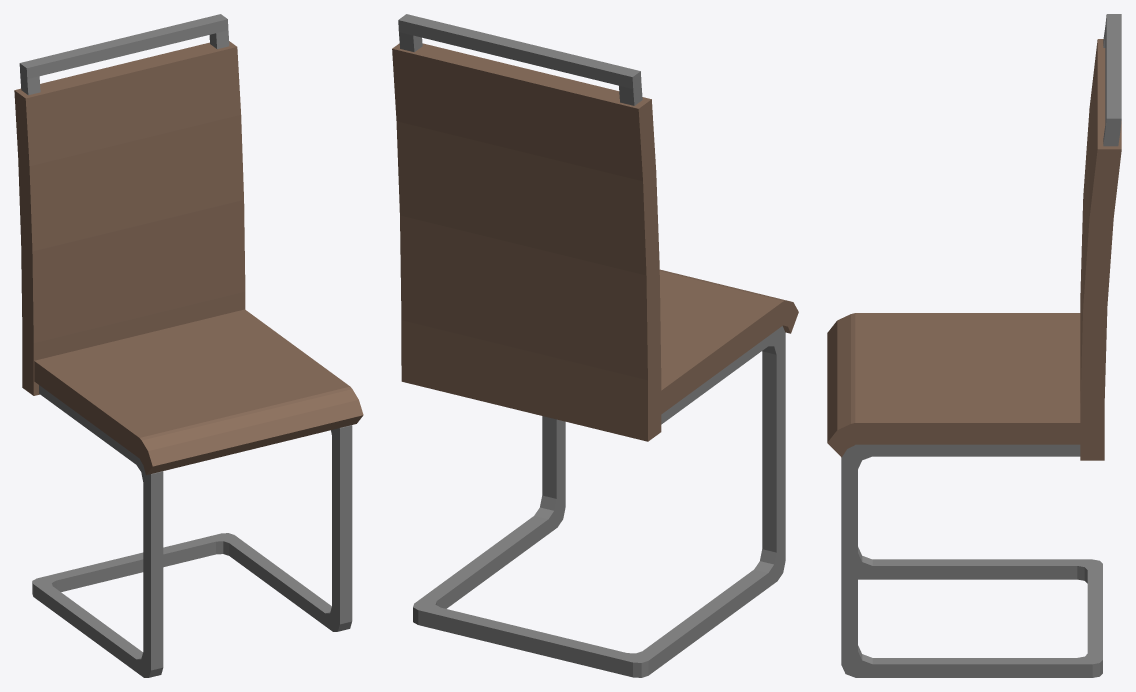
File: Chair_06_C3.fbx
The picture shows the model from 3 angles, left to right: view 1: azimuth 30°, elevation 25°; view 2: azimuth 150°, elevation 25°; view 3: azimuth 270°, elevation 25°; orthographic projection. The views are drawn at different scales.
Parts seen in each view (by area): view 1: Chair_06_C3; view 2: Chair_06_C3; view 3: Chair_06_C3.
Boxes of the visible parts, left/top/right/bottom form: Chair_06_C3: left=14, top=14, right=363, bottom=677; Chair_06_C3: left=392, top=14, right=798, bottom=677; Chair_06_C3: left=827, top=14, right=1121, bottom=677.
Size of the model in its own units: 43.13 by 102 by 48.71.
